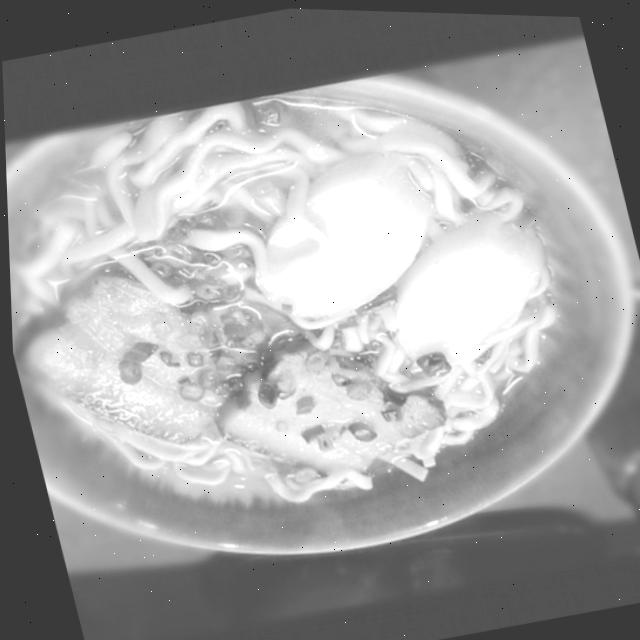鸡蛋料理: (0, 0, 610, 471)
